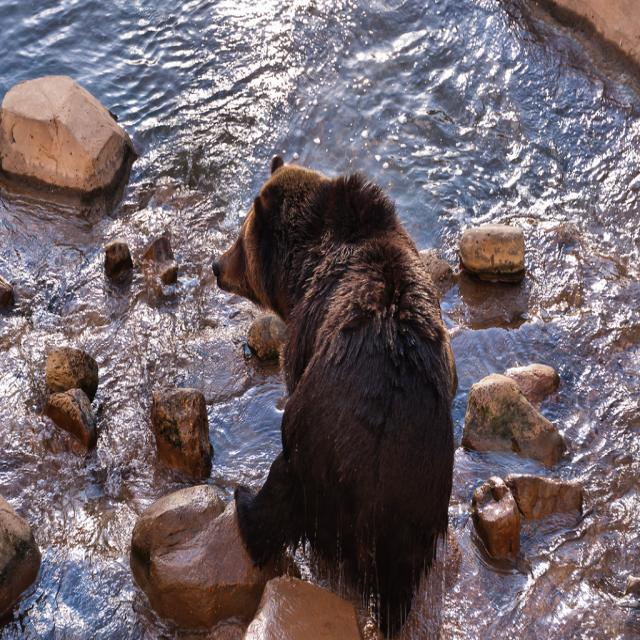Cheetahs: (208, 150, 456, 640)
